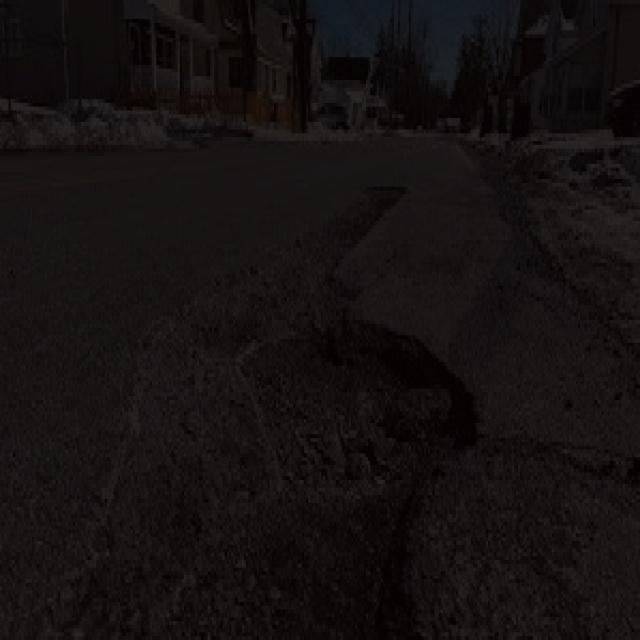Pothole: (232, 318, 484, 511), (180, 176, 424, 308)
